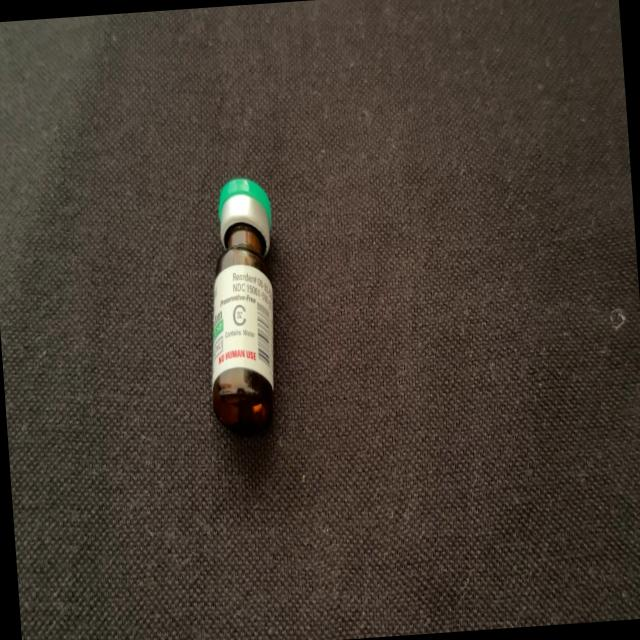midazolm: (198, 180, 285, 430)
